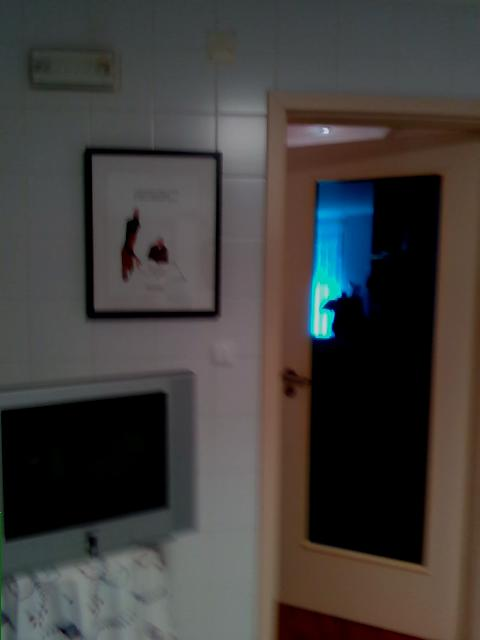semi_door: (258, 82, 479, 639)
